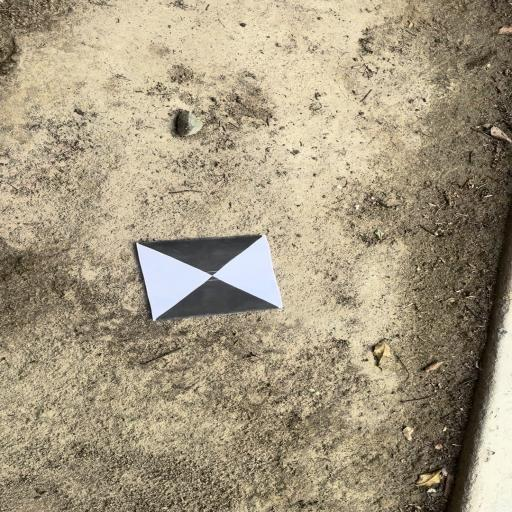target: (137, 235, 283, 321)
